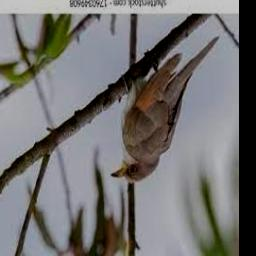Cuckoo: (111, 36, 220, 183)
